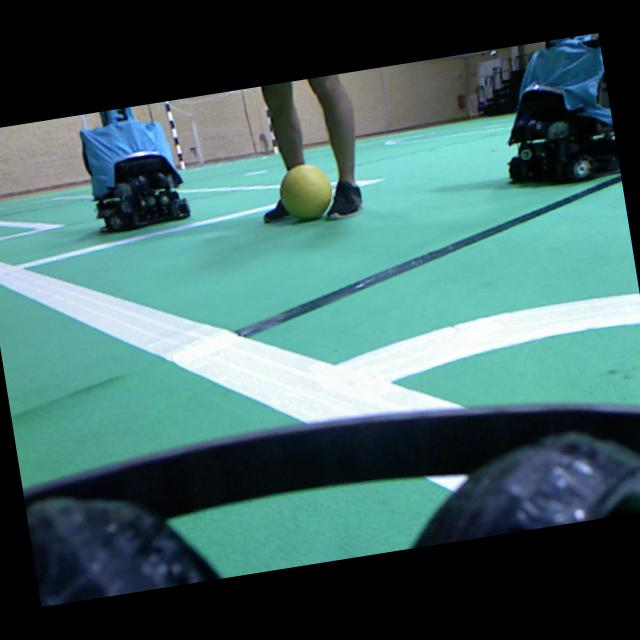ball: (280, 164, 331, 219)
